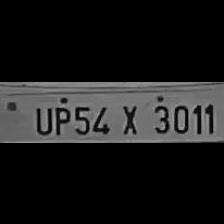0: (171, 100, 191, 134)
1: (188, 102, 204, 134), (202, 101, 216, 135)
3: (148, 100, 170, 134)
4: (90, 102, 113, 134)
5: (70, 102, 90, 136)
P: (50, 102, 70, 136)
U: (30, 103, 52, 135)
X: (114, 101, 142, 135)
